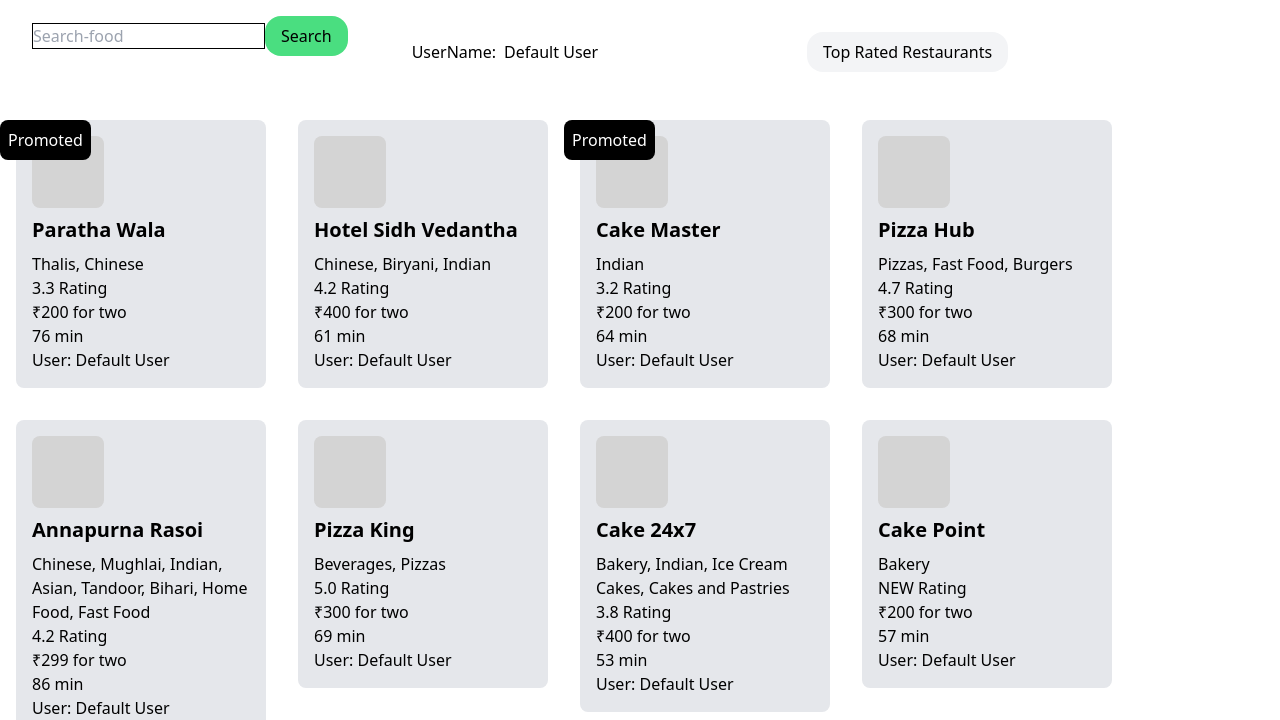
Should Search Res List for burger text input
The width and height of the screenshot is (1280, 720).
In the field with test id "searchInput": (148, 36) [32,23,265,49], type "pizza"
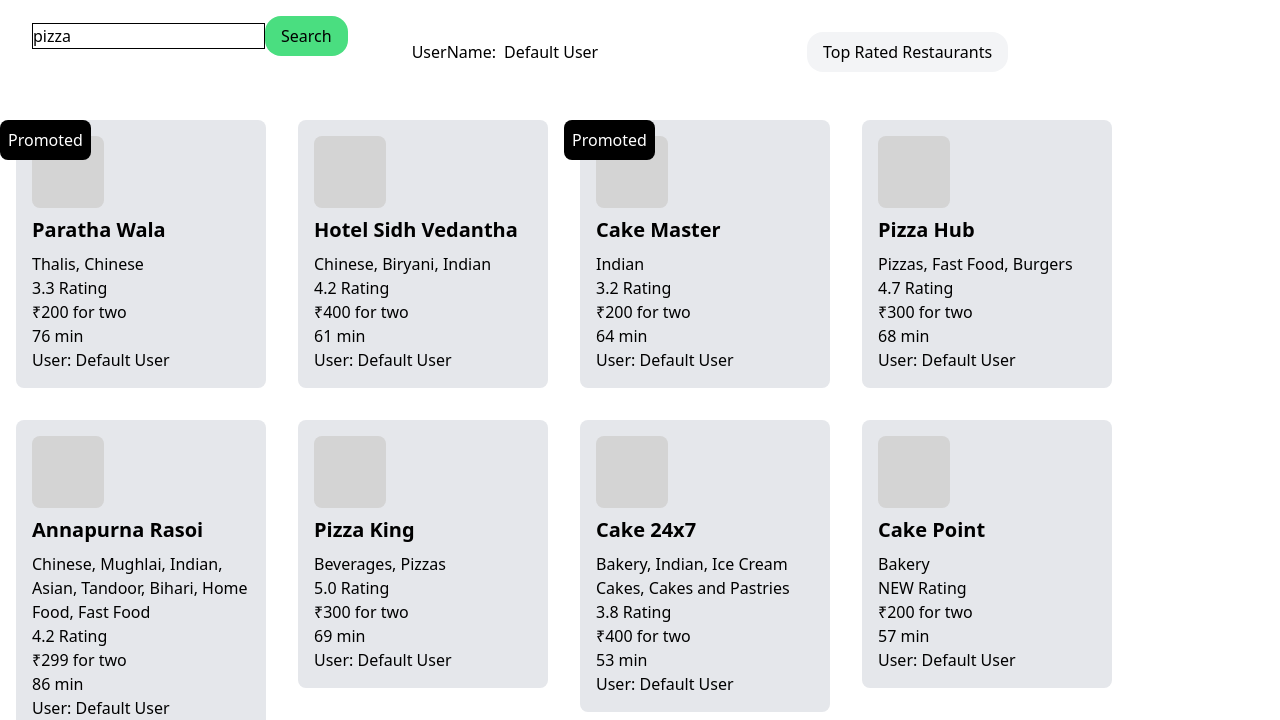
Click the button "Search": (306, 36) [265,16,348,56]
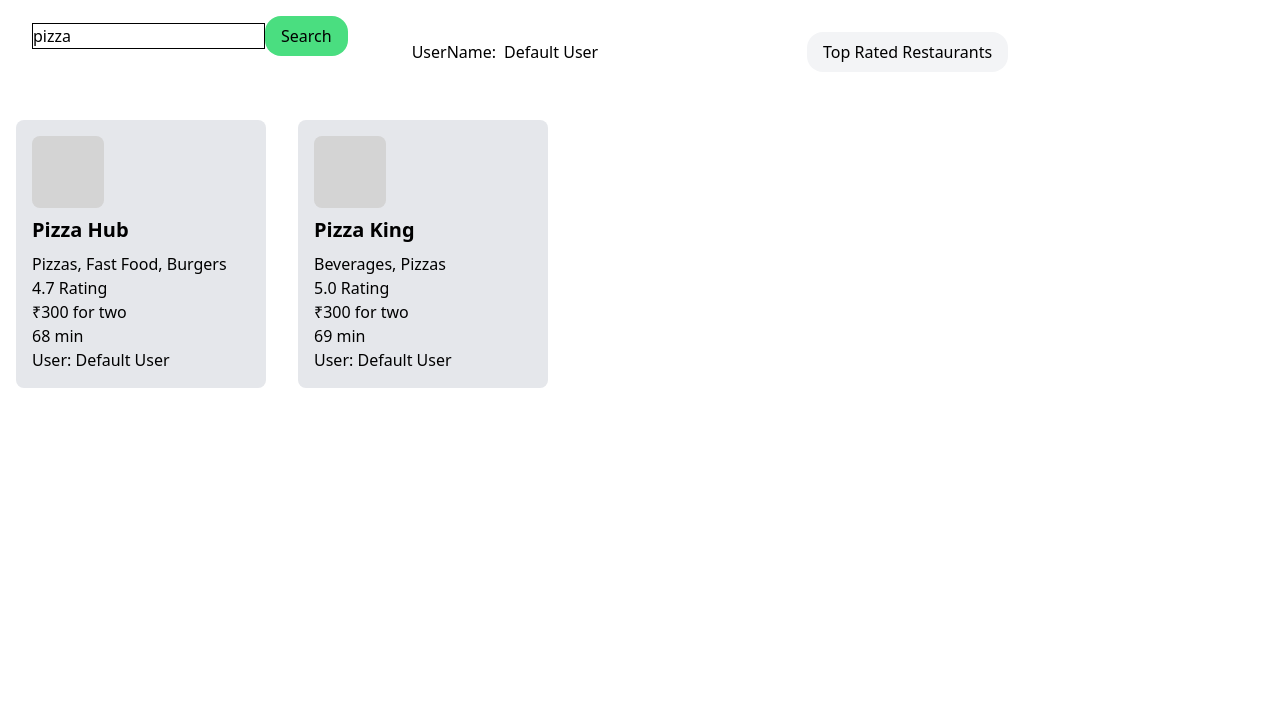
Check: the number of elements with test id "resCard" is 2, box [16,120,266,388]; [298,120,548,388]
